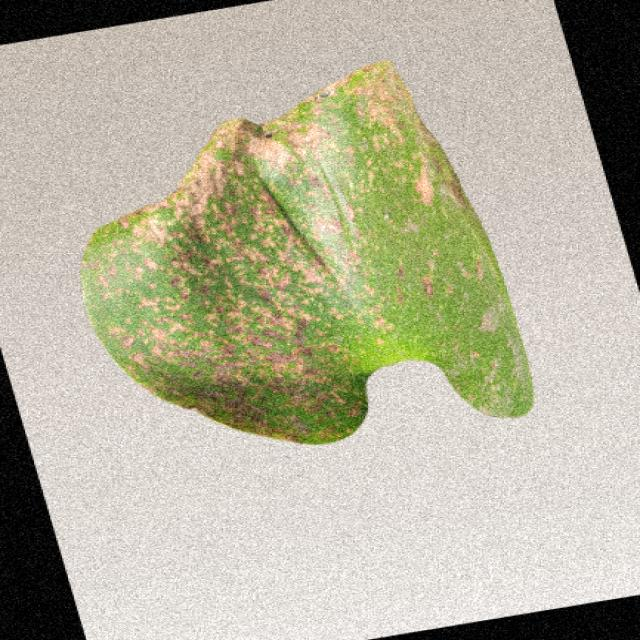daun berpenyakit bercak: (83, 62, 533, 443)
